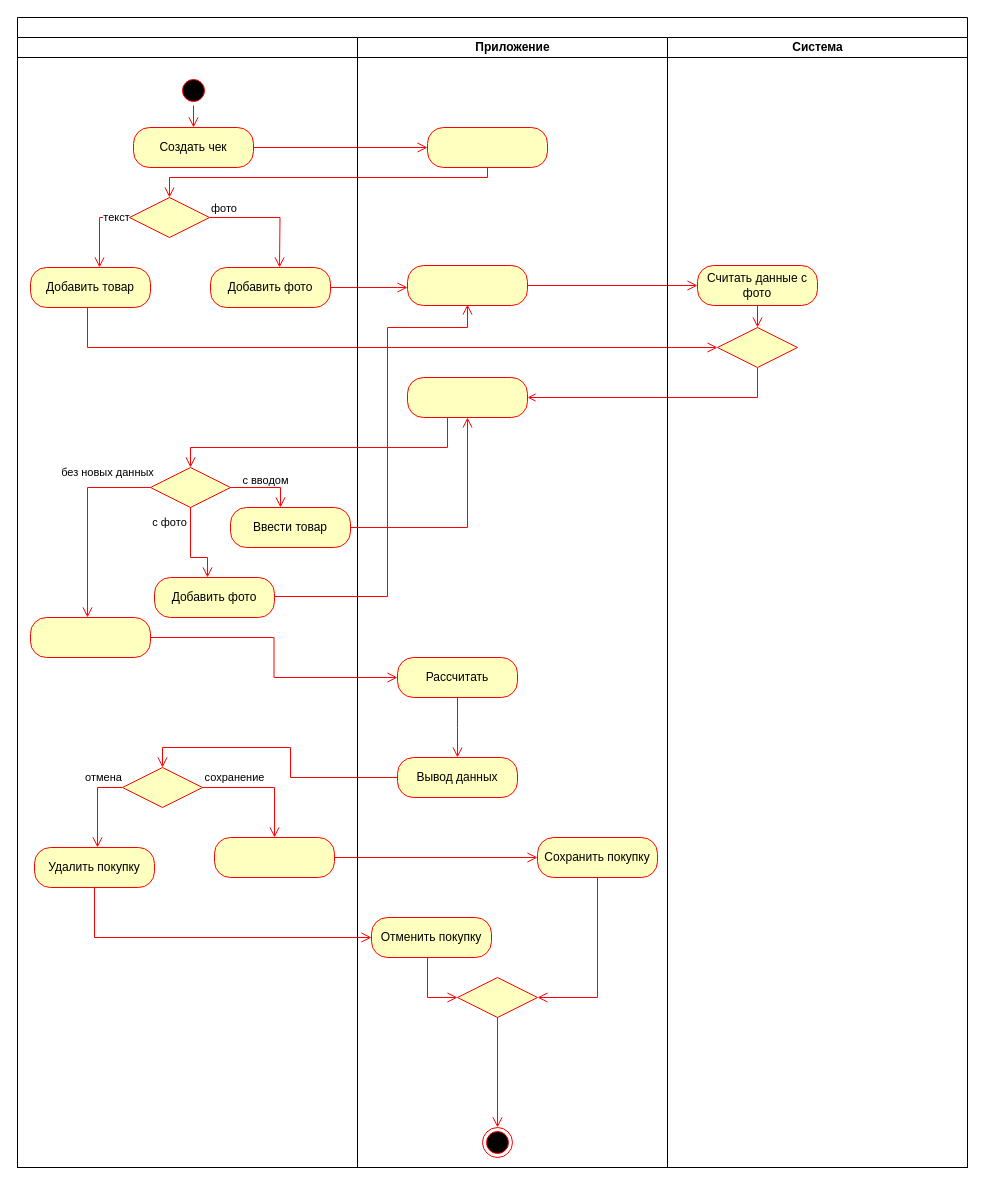
Some shapes in this 985 by 1185 pixel diagram are drawn without their labels. The box of each missing label's shape, as (x1, y1, x2, y2) in pixels:
Выбрать условия: (30, 616, 150, 658)
Добавить новую запись: (426, 126, 548, 168)
Закрыть покупку: (214, 836, 334, 878)
Записать данные: (406, 376, 528, 418)
Отправить фото на обработку: (406, 264, 528, 306)
Пользователь: (16, 36, 358, 1168)
